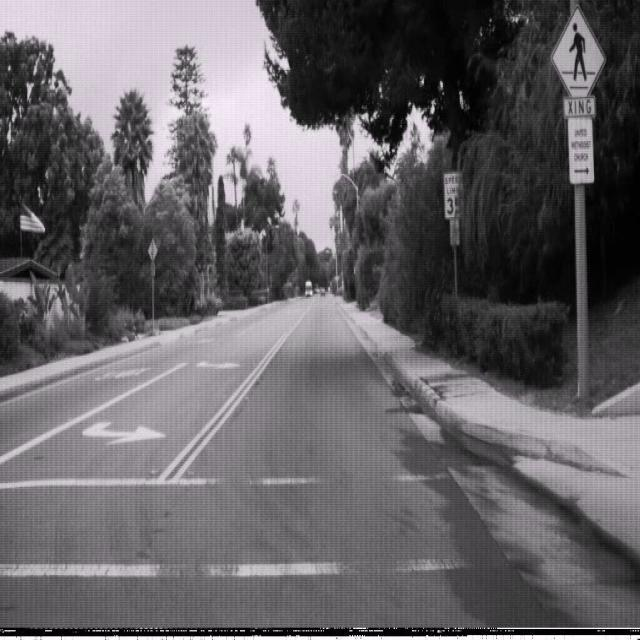pedestrianCrossing: (550, 3, 606, 116)
speedLimit35: (443, 170, 465, 220)
